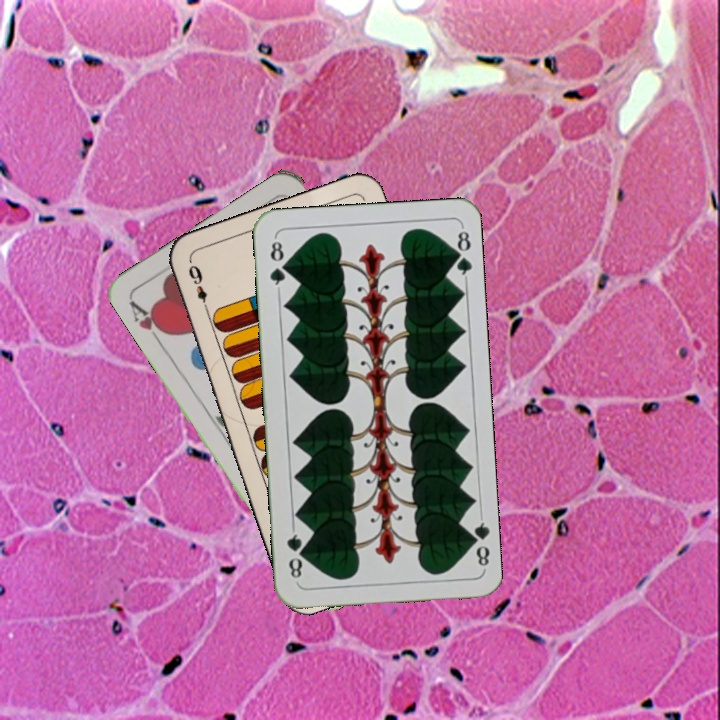E9: (184, 258, 211, 316)
G8: (464, 512, 492, 571), (265, 234, 289, 293)
HA: (124, 296, 172, 348)
